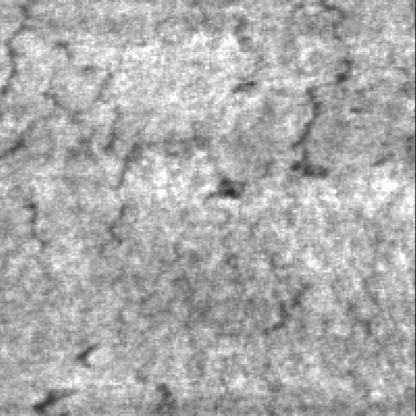crazing: (98, 0, 276, 306), (0, 0, 139, 266), (276, 0, 393, 181)
